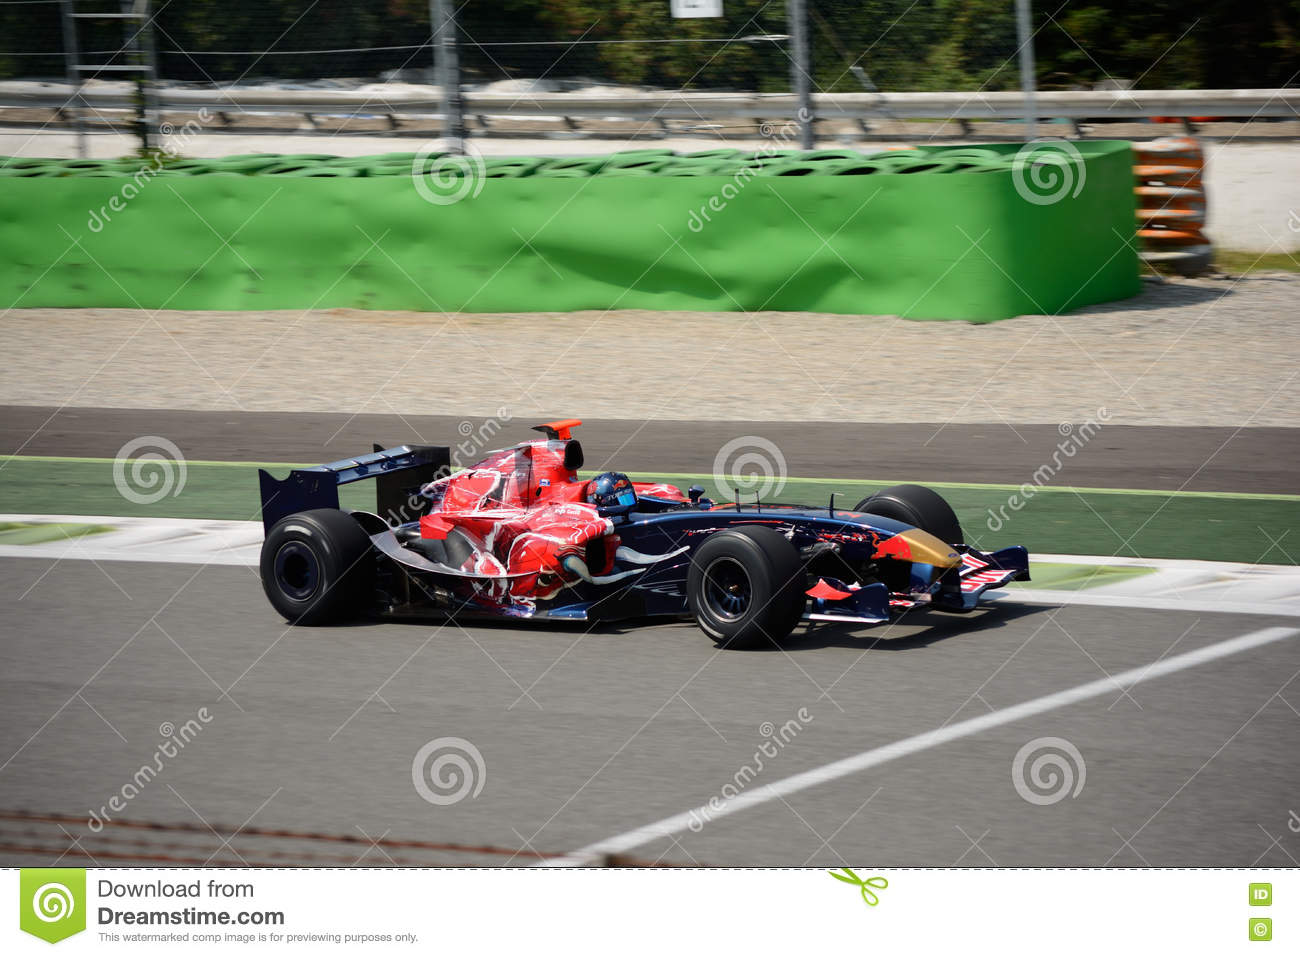f1_car: (240, 394, 1055, 665)
helmet: (571, 457, 655, 528)
